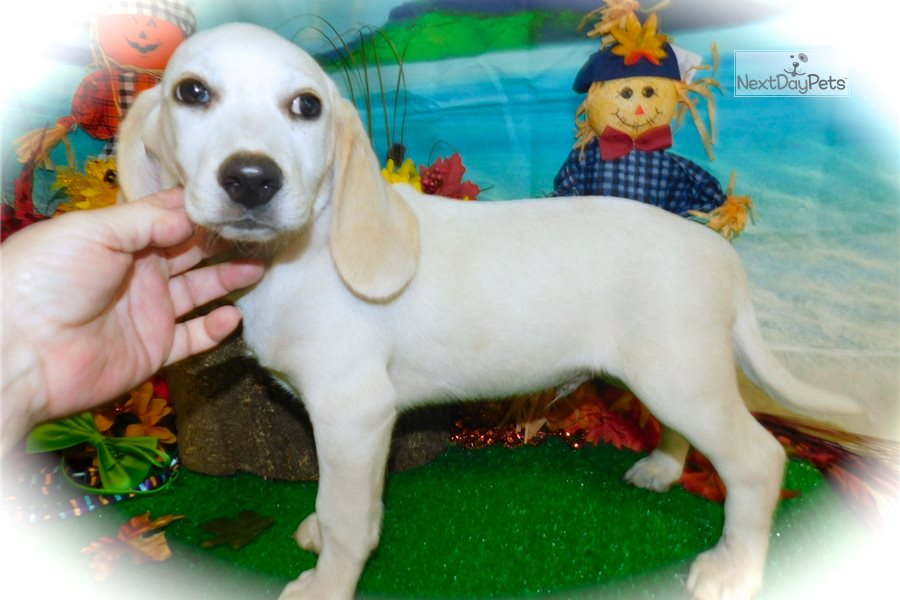dog: (104, 21, 858, 600)
